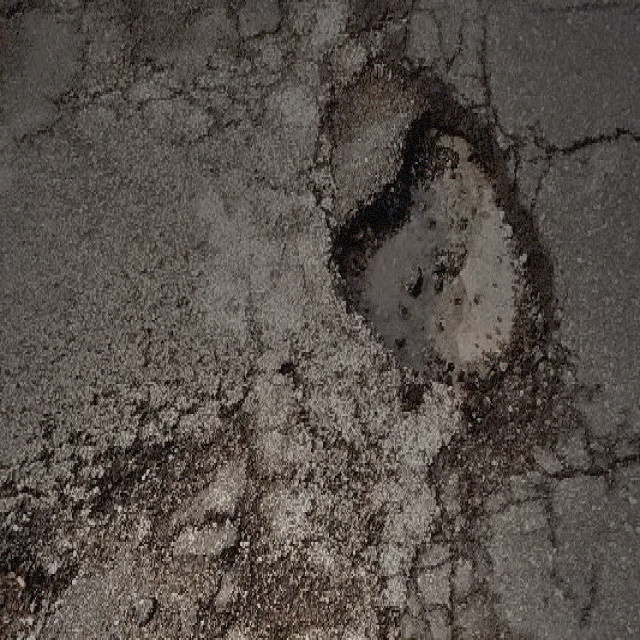pothole: (321, 88, 562, 418), (0, 548, 55, 638)
